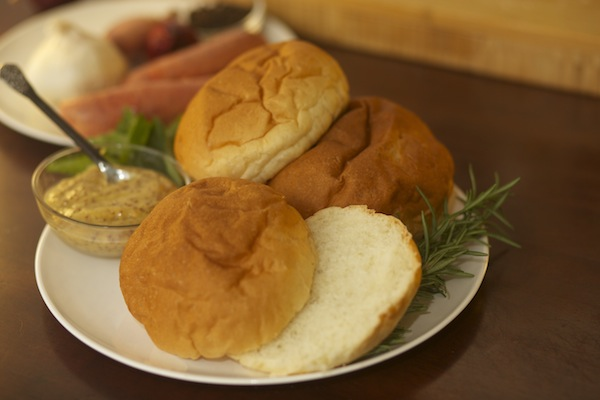hamburger_buns: (101, 158, 429, 378), (194, 55, 447, 230)
